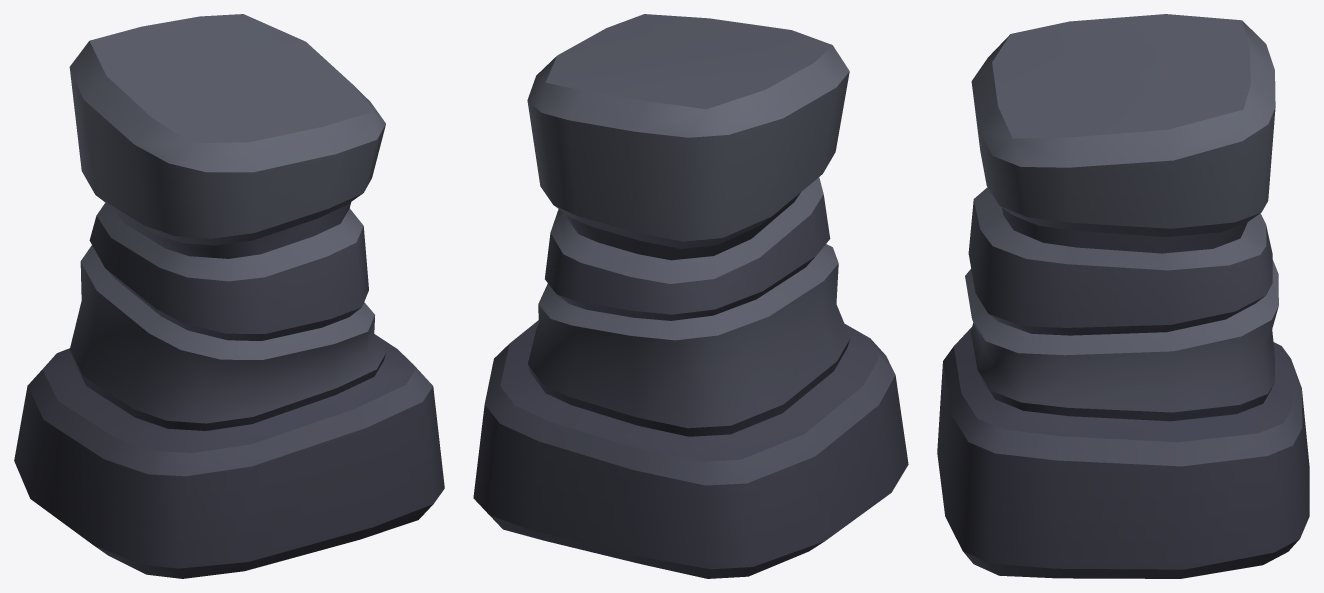
File: rock_big_B_gray_2.glb
3 renders of one model, left to right at view 1: azimuth 30°, elevation 25°; view 2: azimuth 150°, elevation 25°; view 3: azimuth 270°, elevation 25°, orthographic. The views are drawn at different scales.
Parts seen in each view (by area): view 1: rock_big_B_gray_2; view 2: rock_big_B_gray_2; view 3: rock_big_B_gray_2.
Part boxes in pixels (x1=…): rock_big_B_gray_2: x1=14, y1=14, x2=444, y2=578; rock_big_B_gray_2: x1=473, y1=14, x2=908, y2=578; rock_big_B_gray_2: x1=937, y1=14, x2=1309, y2=578.
Size of the model in its own units: 3.61 by 4.5 by 3.41.
Materials: 1 (1 with a texture image).
